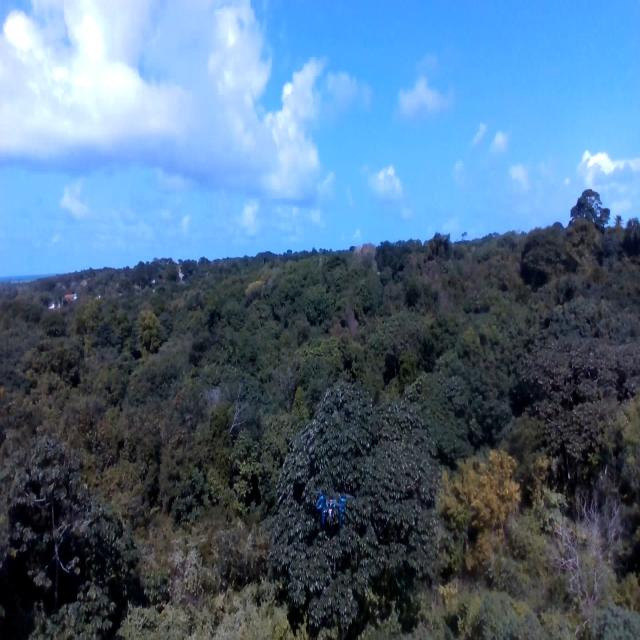-uav-: (312, 483, 352, 539)
